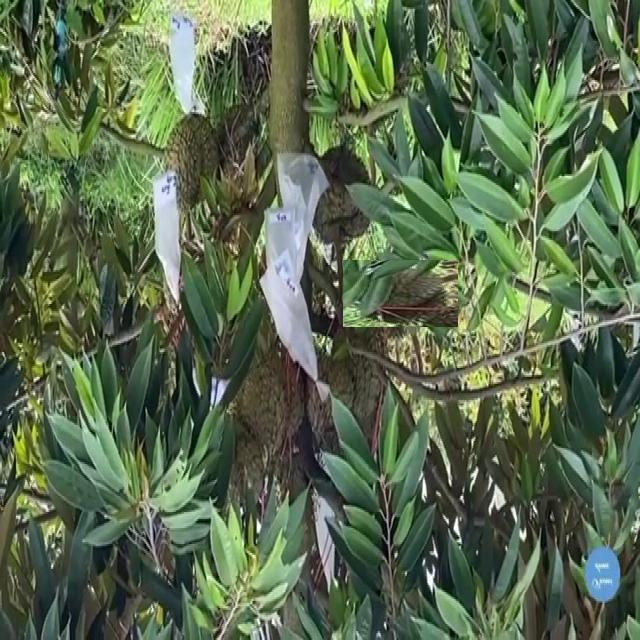durian: (299, 137, 379, 250), (355, 247, 446, 339), (156, 110, 225, 222)
